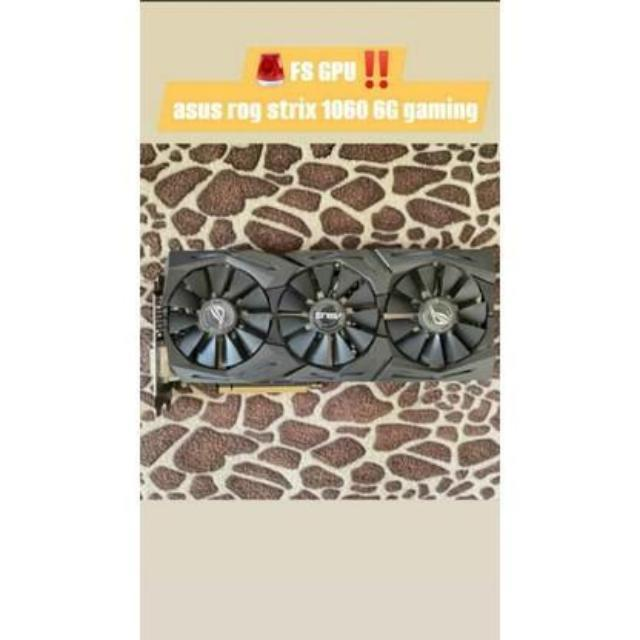GPU: (150, 245, 496, 392)
